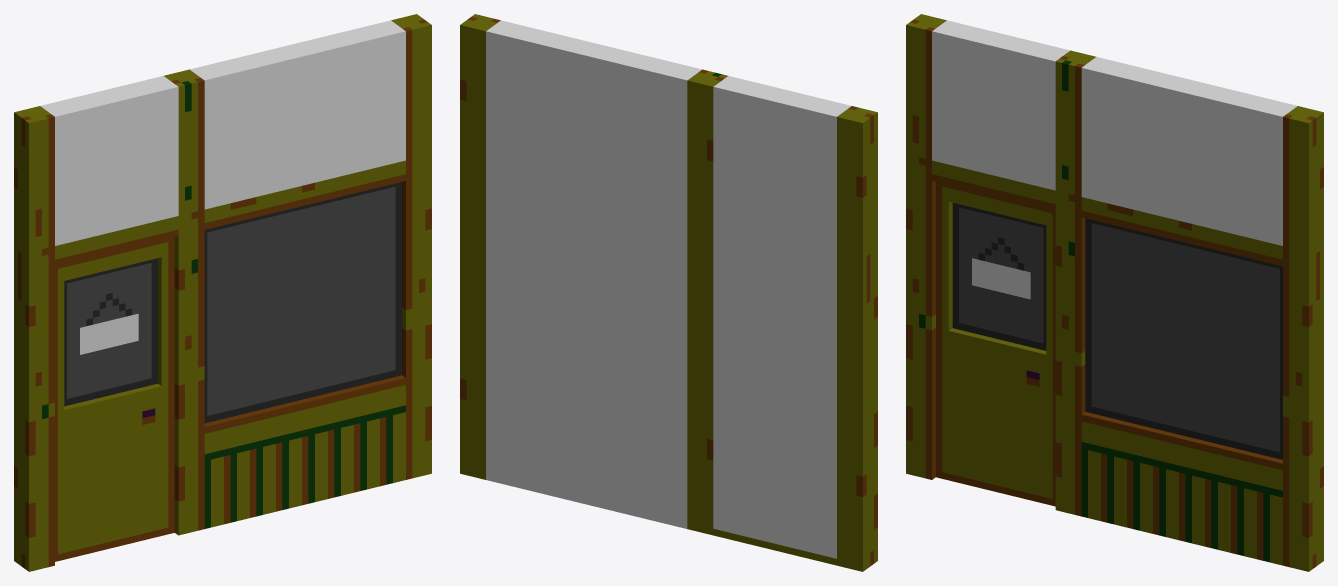
Rendered from classicThree.glb.
3 views of the same model, side by side, from view 1: azimuth 30°, elevation 25°; view 2: azimuth 150°, elevation 25°; view 3: azimuth 330°, elevation 25° (orthographic).
Visible parts, largest first — view 1: ObjObject; view 2: ObjObject; view 3: ObjObject.
Part boxes in pixels (x1,y1,x2,y2): ObjObject: (14, 14, 431, 571); ObjObject: (460, 14, 877, 571); ObjObject: (906, 14, 1323, 571).
Bounding box in the file's own units: 6.2 × 6.6 × 0.4.
Materials: 1 (1 with a texture image).
